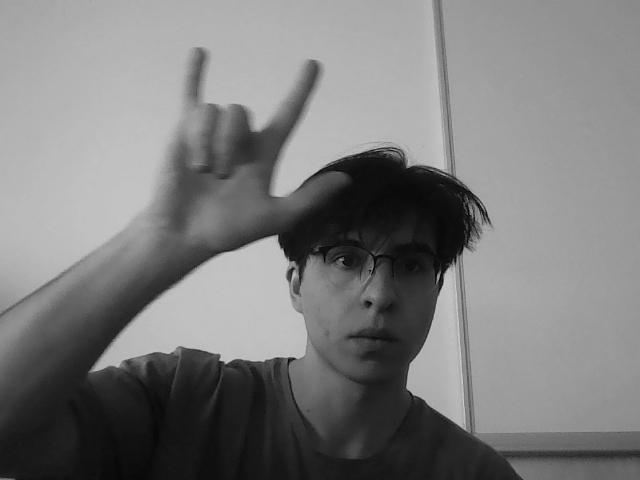I_Love_You: (153, 43, 343, 253)
